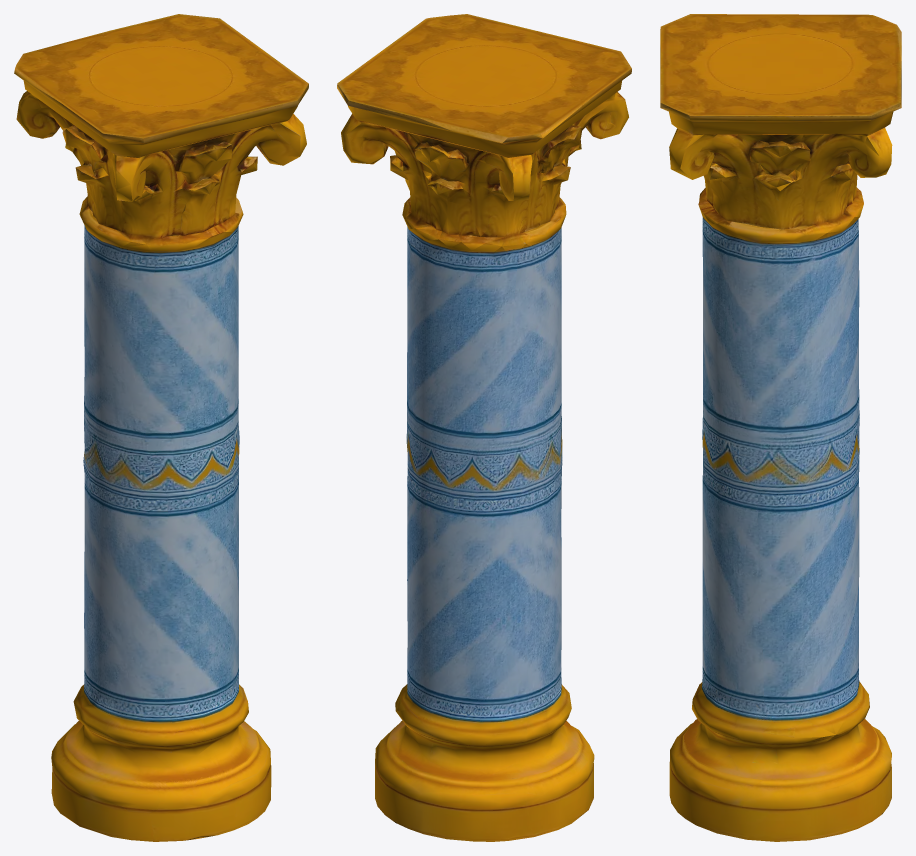
File: blk_city_pillar.glb
The picture shows the model from 3 angles, left to right: view 1: azimuth 30°, elevation 25°; view 2: azimuth 150°, elevation 25°; view 3: azimuth 270°, elevation 25°; orthographic projection.
Bounding box in the file's own units: 0.5989 × 2 × 0.5994.
1 material, 1 textured.
